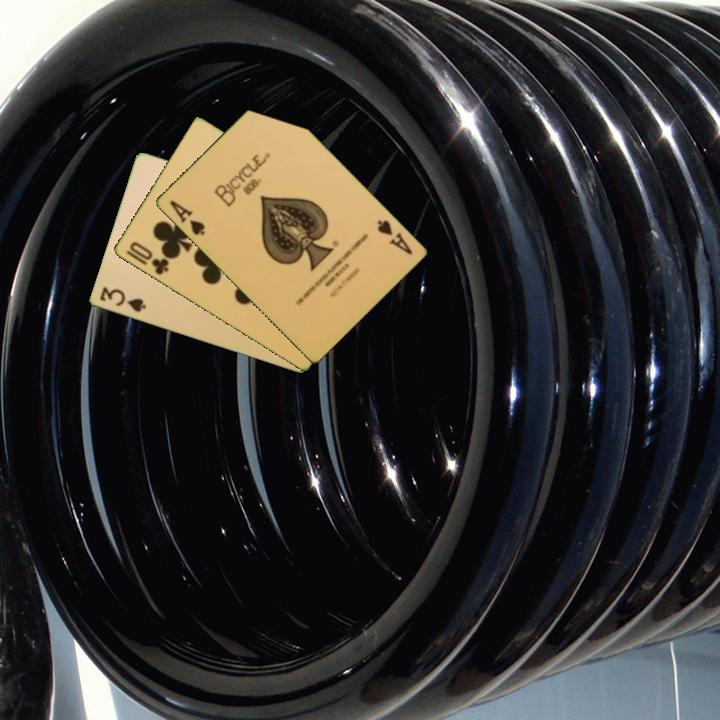10c: (125, 238, 172, 278)
3s: (96, 283, 149, 315)
As: (166, 197, 208, 239), (373, 216, 415, 258)
